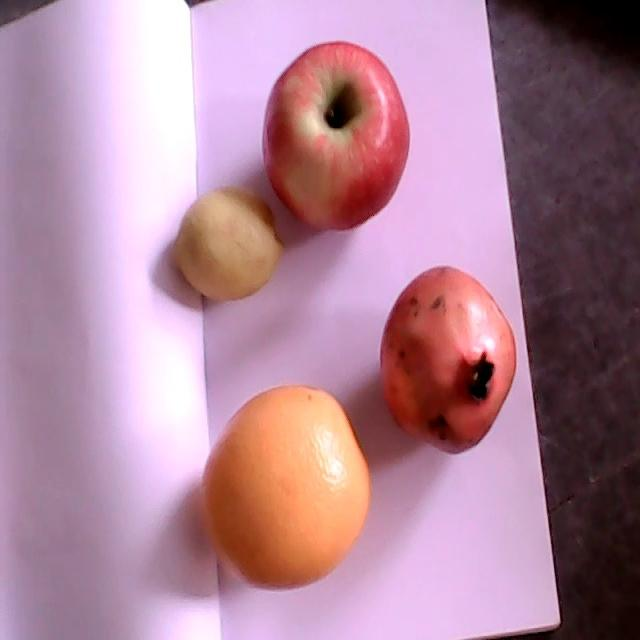apple: (262, 41, 411, 233)
lemon: (167, 185, 286, 300)
orange: (202, 386, 370, 588)
pomegranate: (377, 268, 520, 454)
